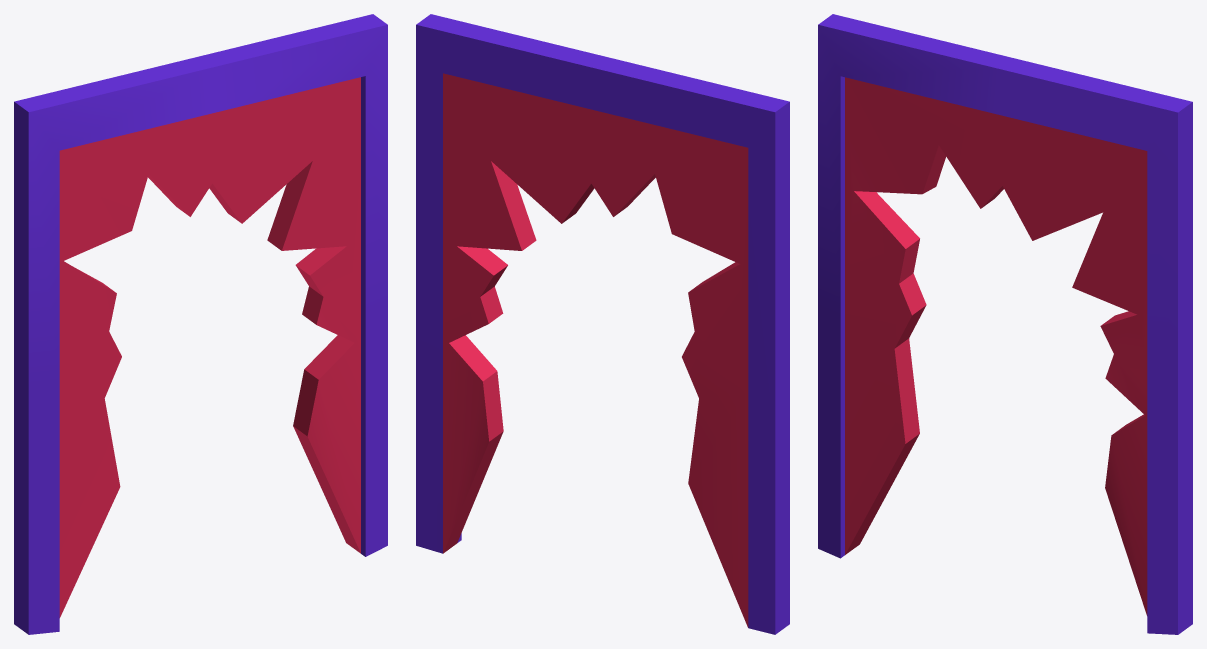
File: BrokeWallUVID.fbx
The picture shows the model from 3 angles, left to right: view 1: azimuth 30°, elevation 25°; view 2: azimuth 150°, elevation 25°; view 3: azimuth 330°, elevation 25°; orthographic projection.
Visible parts, largest first — view 1: Wall3.001; view 2: Wall3.001; view 3: Wall3.001.
Boxes of the visible parts, left/top/right/bottom form: Wall3.001: left=14, top=14, right=387, bottom=634; Wall3.001: left=416, top=14, right=789, bottom=634; Wall3.001: left=818, top=14, right=1192, bottom=634.
Bounding box in the file's own units: 65.75 × 91.49 × 7.12.
